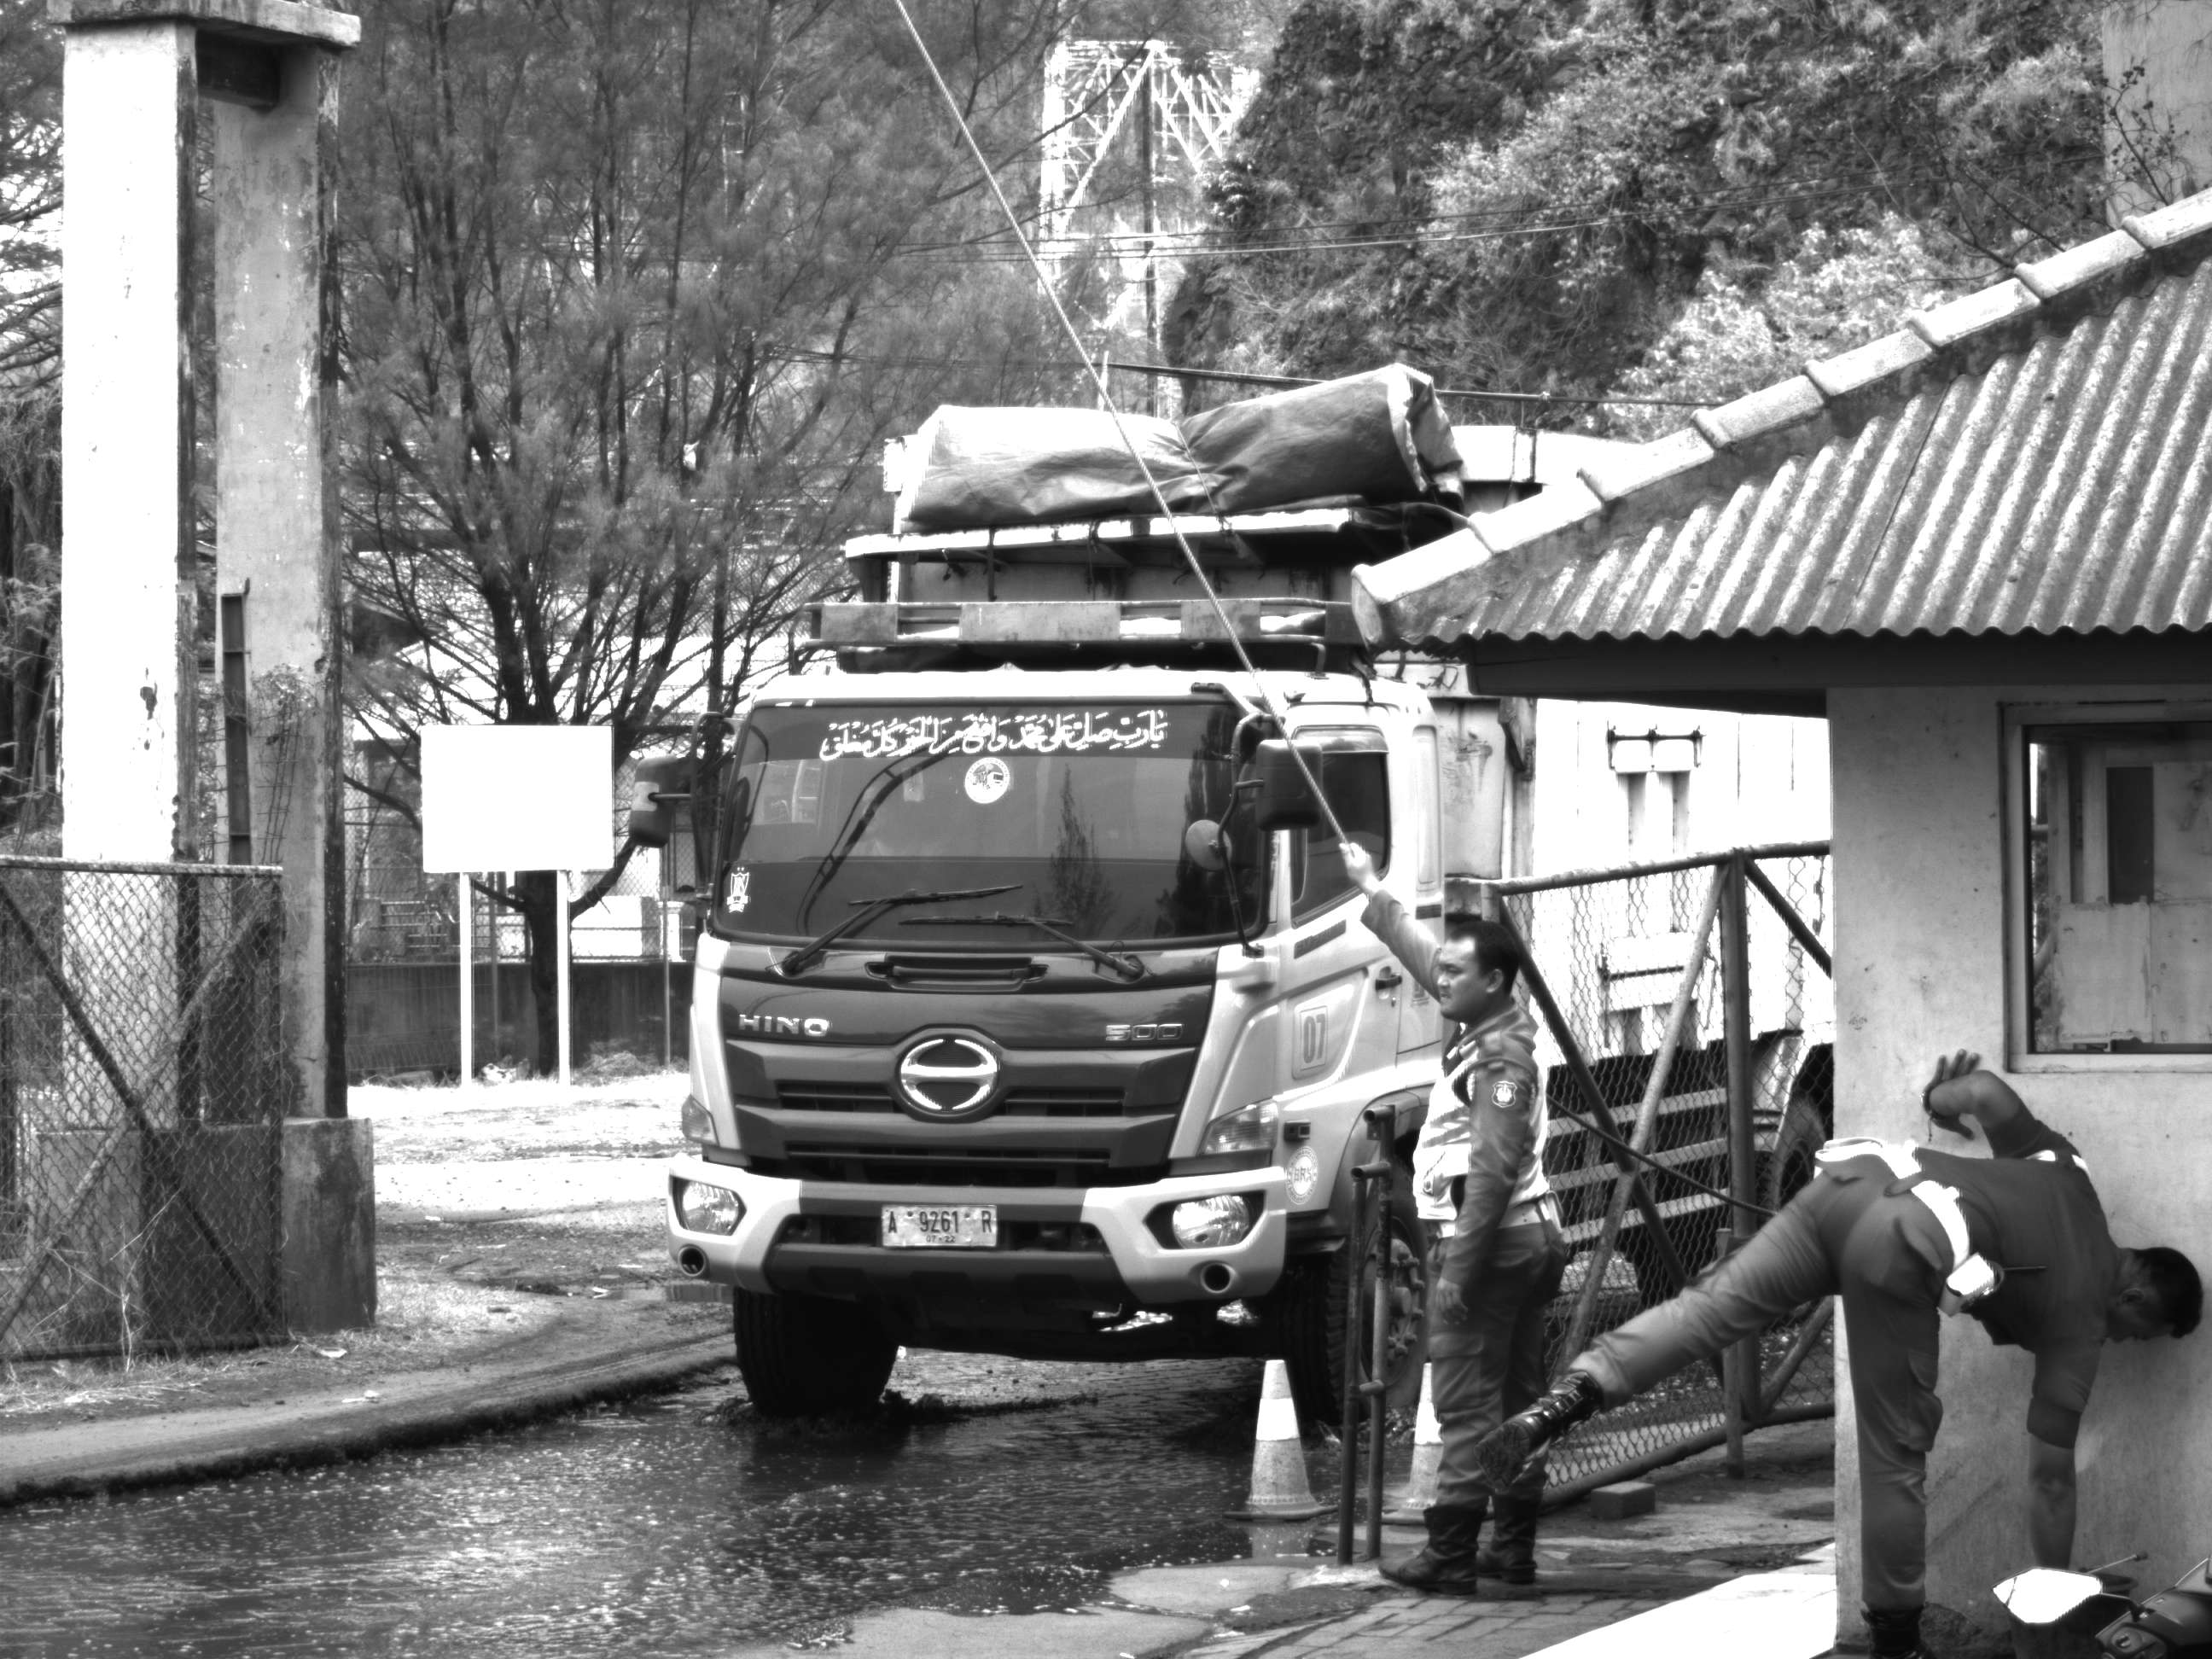day_truck_front: (629, 583, 1466, 1441)
plate: (880, 1202, 996, 1247)
